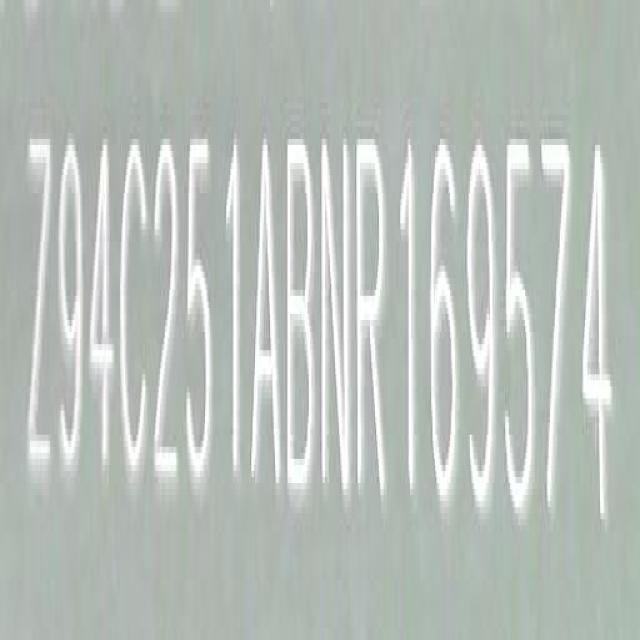1: (400, 133, 422, 516), (223, 133, 243, 499)
2: (152, 138, 180, 504)
4: (582, 144, 620, 541), (90, 134, 118, 495)
5: (506, 132, 538, 534), (187, 126, 215, 502)
6: (431, 135, 462, 523)
7: (543, 131, 575, 537)
9: (466, 138, 499, 526), (58, 130, 86, 498)
A: (252, 130, 282, 502)
B: (286, 124, 316, 503)
C: (120, 132, 154, 499)
N: (321, 128, 352, 512)
R: (357, 129, 390, 517)
Z: (23, 128, 53, 502)
